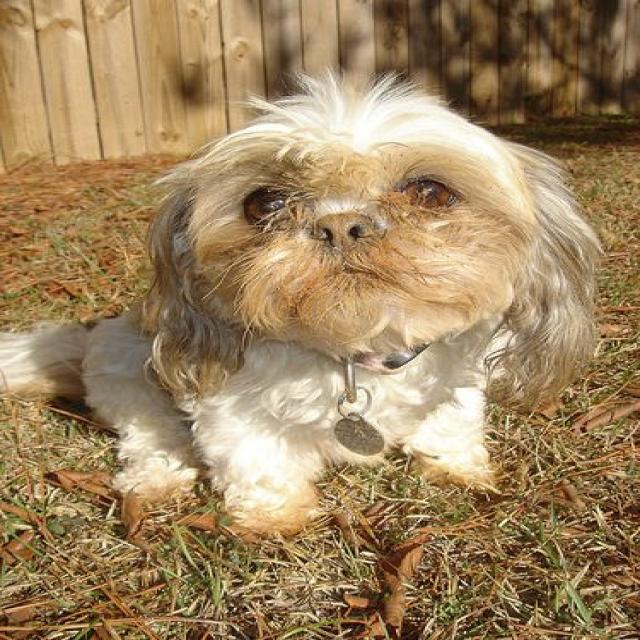shih_tzu: (3, 68, 596, 538)
